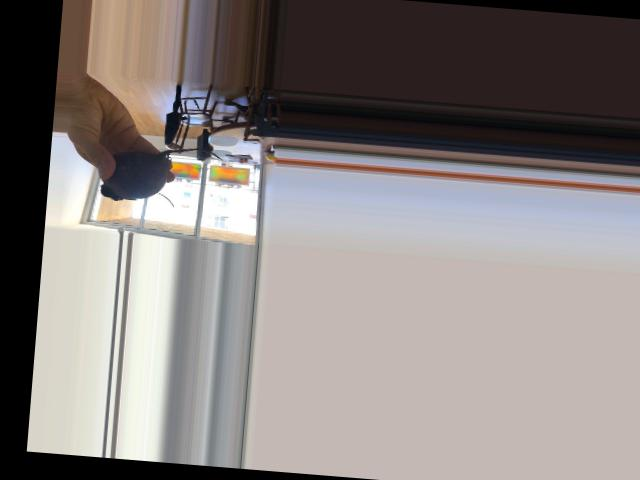beet: (100, 140, 223, 209)
